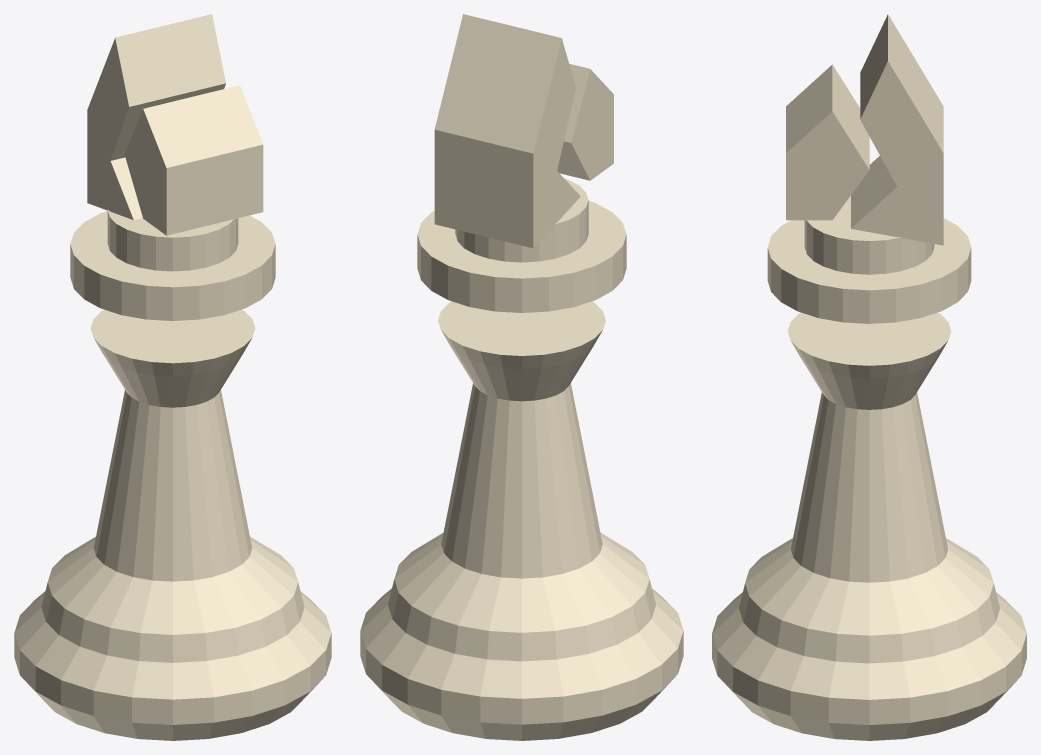
The model's file is bishop.glb.
The picture shows the model from 3 angles, left to right: view 1: azimuth 30°, elevation 25°; view 2: azimuth 150°, elevation 25°; view 3: azimuth 270°, elevation 25°; orthographic projection. The views are drawn at different scales.
Visible parts, largest first — view 1: bishop; view 2: bishop; view 3: bishop.
Boxes of the visible parts, left/top/right/bottom form: bishop: left=14, top=14, right=331, bottom=740; bishop: left=360, top=14, right=683, bottom=740; bishop: left=712, top=14, right=1026, bottom=740.
Size of the model in its own units: 0.034 by 0.077 by 0.034.
